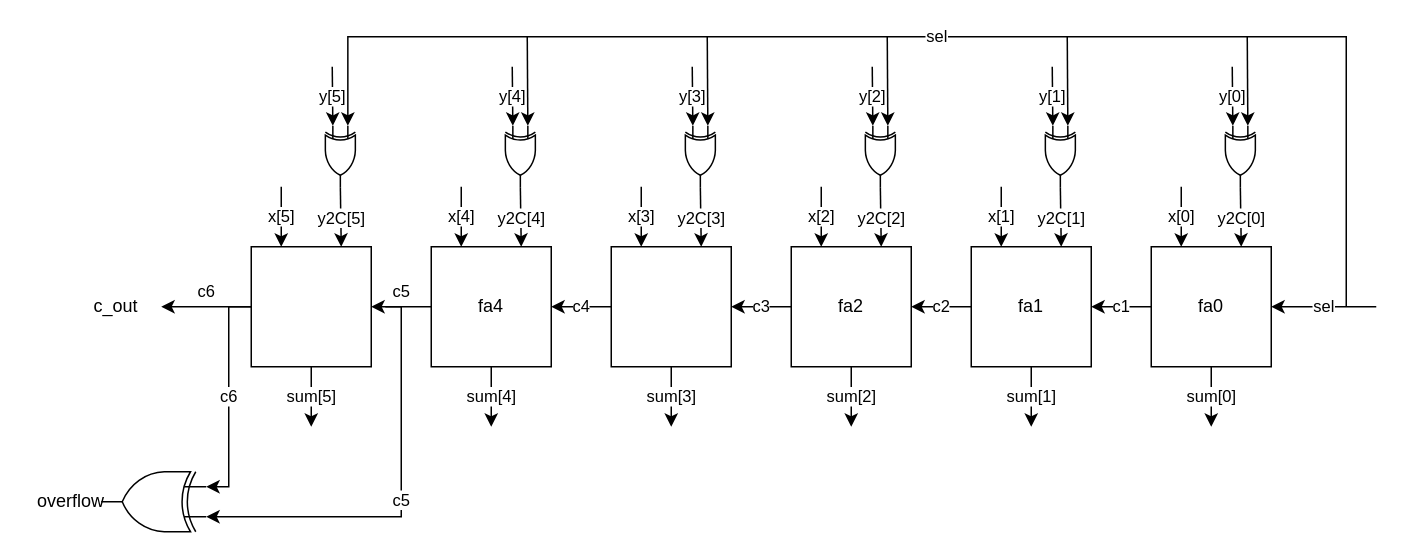
Some shapes in this 1415 by 558 pixel diagram are drawn without their labels. The shapes that lost their labels are listed below. From the top down, each one's centre as x and y in pixels, then its label:
At (x=310, y=306): "fa5".
At (x=670, y=306): "fa3".
